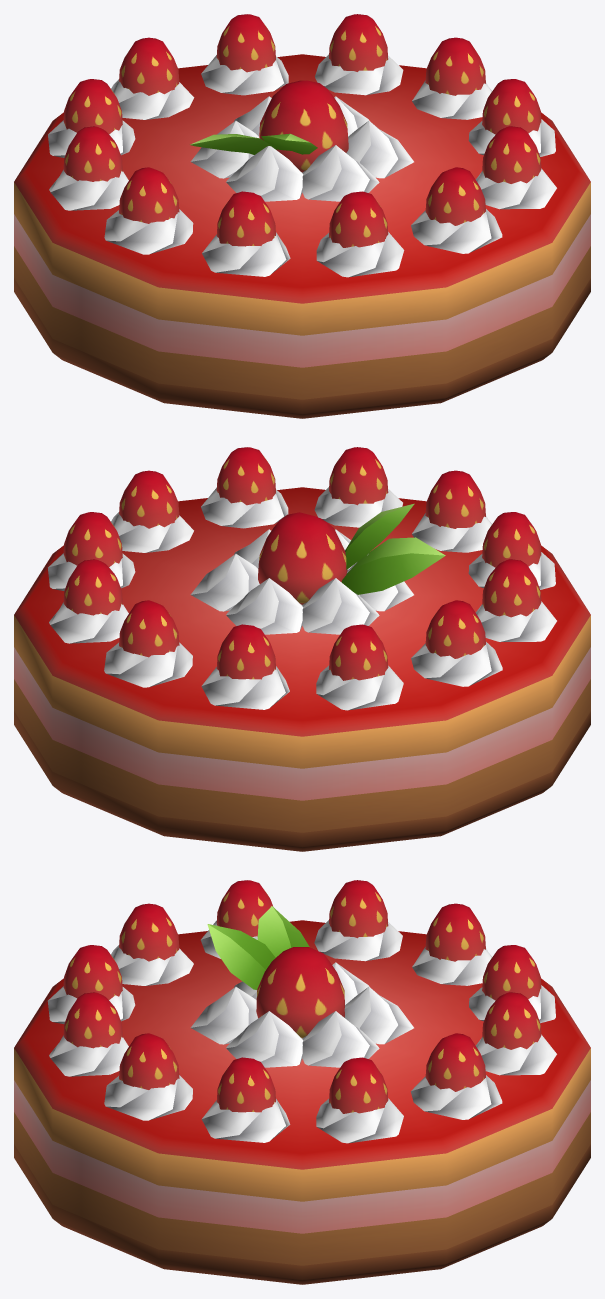
The model's file is m_StrawberryCake01.fbx.
The picture shows the model from 3 angles, top to bottom: view 1: azimuth 30°, elevation 25°; view 2: azimuth 150°, elevation 25°; view 3: azimuth 270°, elevation 25°; orthographic projection.
Parts seen in each view (by area): view 1: m_StrawberryCake01; view 2: m_StrawberryCake01; view 3: m_StrawberryCake01.
Boxes of the visible parts, x1=… form: m_StrawberryCake01: x1=14, y1=14, x2=590, y2=418; m_StrawberryCake01: x1=14, y1=447, x2=590, y2=851; m_StrawberryCake01: x1=14, y1=880, x2=590, y2=1284.
Bounding box in the file's own units: 28 × 11.6 × 28.
